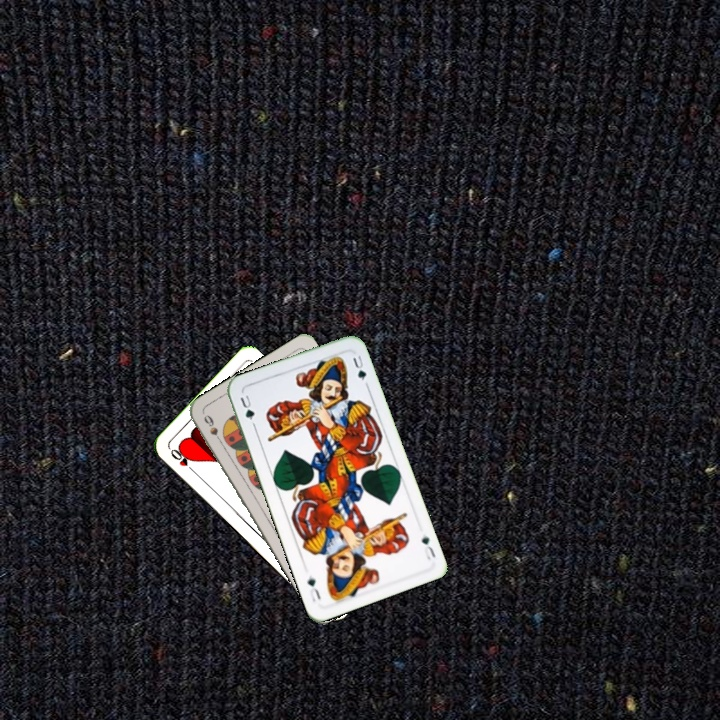GU: (236, 391, 258, 429), (417, 531, 438, 562)
HO: (166, 445, 199, 477)
S9: (200, 410, 226, 448)
